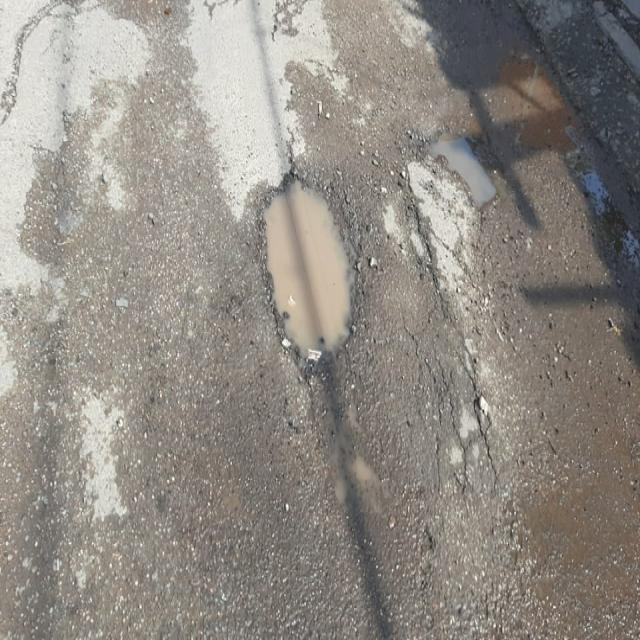Pothole: (242, 146, 396, 453)
